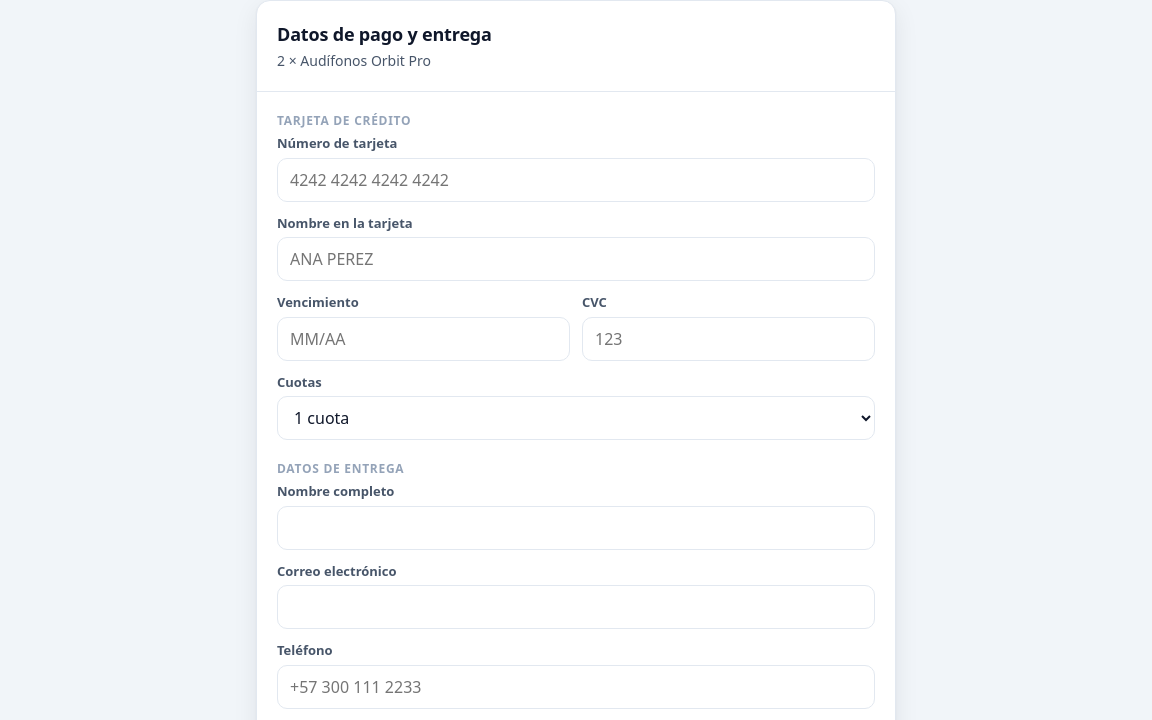
it: CheckoutPage › formats the card number in groups of four as it is typed
This screenshot has width=1152, height=720.
Step 1. Type "4242424242424242" into the field labelled "Número de tarjeta" → (576, 180), box x1=277 y1=158 x2=875 y2=202
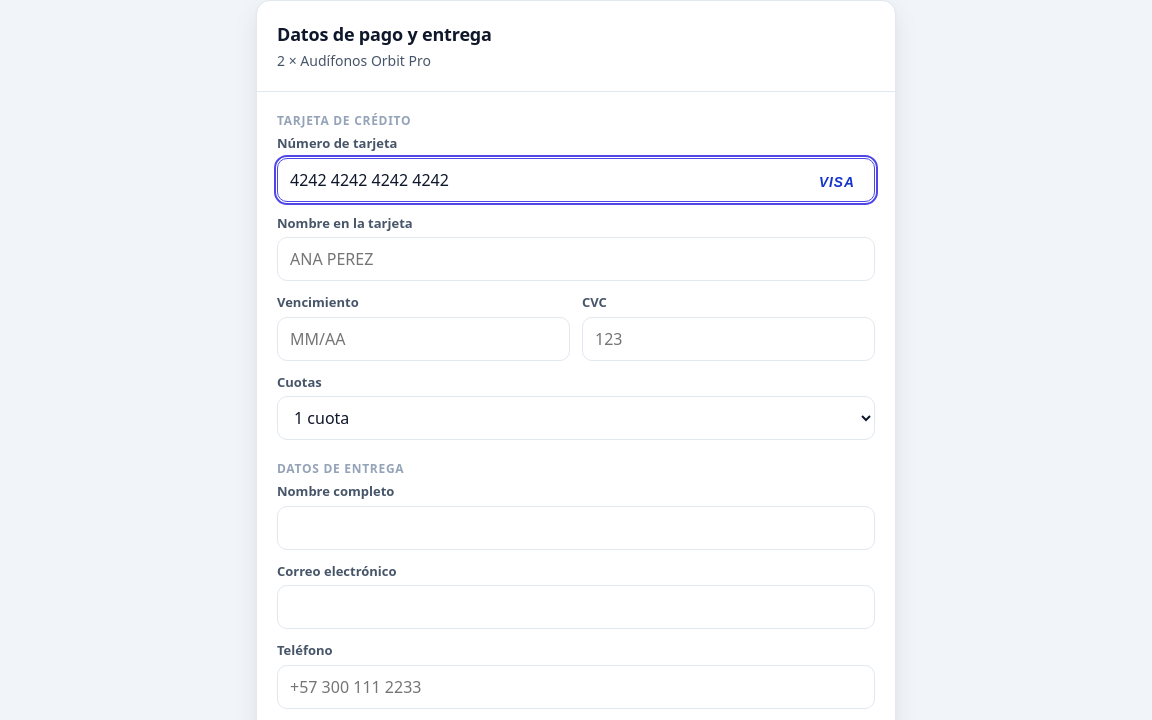
Now the field labelled "Número de tarjeta" holds "4242 4242 4242 4242", box x1=277 y1=158 x2=875 y2=202
